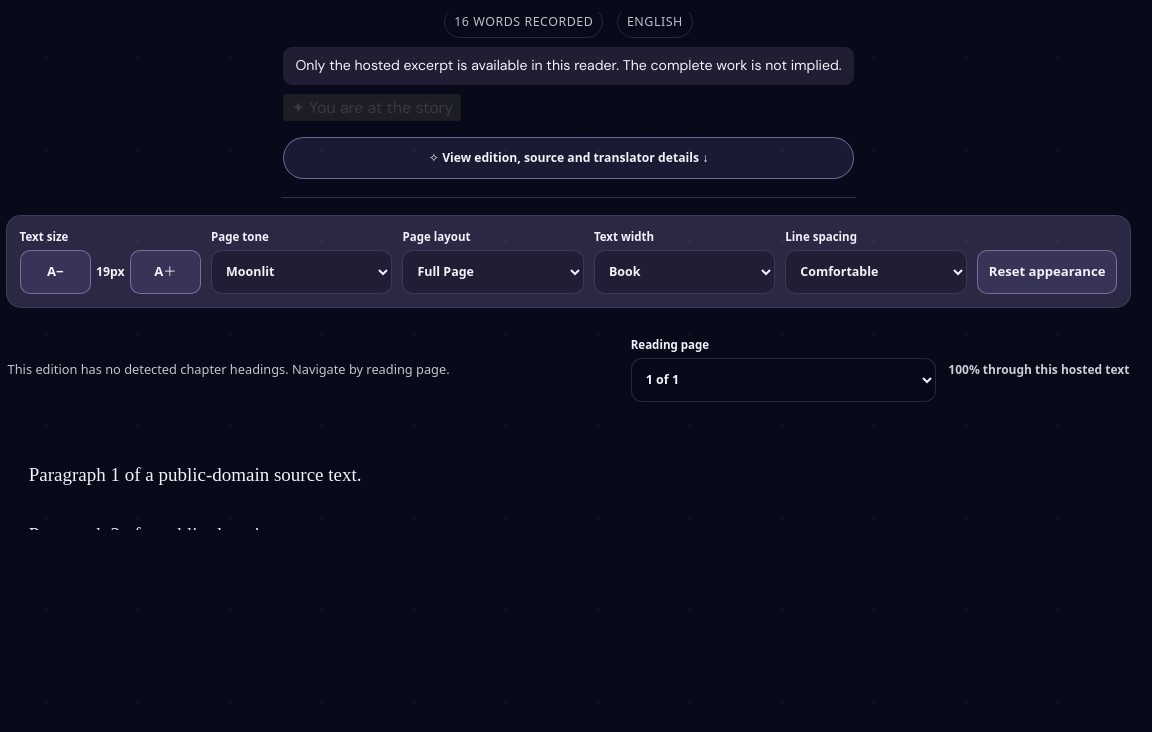
Test: long-form classic reader › retains an explicit excerpt warning and supports font-size adjustments
(page scrolled)
Expected: the text "Only the hosted excerpt" is shown, [295,56,842,74]
Step 1. Click the button named "Increase classic text size" → [165, 272], box [130,250,201,294]
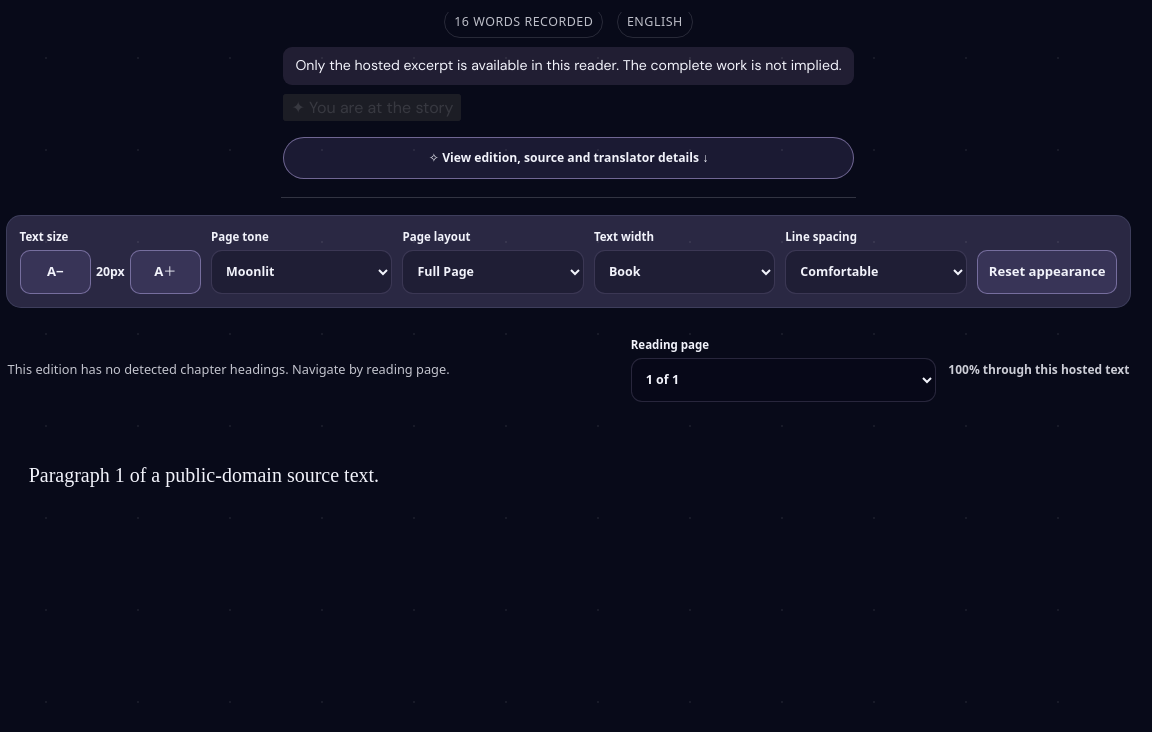
Expected: the text "20px" is shown, [96,264,125,280]
